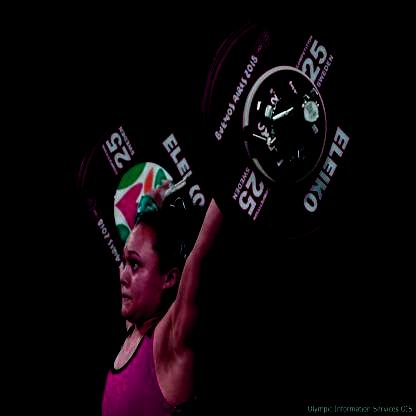barbell: (205, 11, 362, 244), (75, 106, 222, 313)
